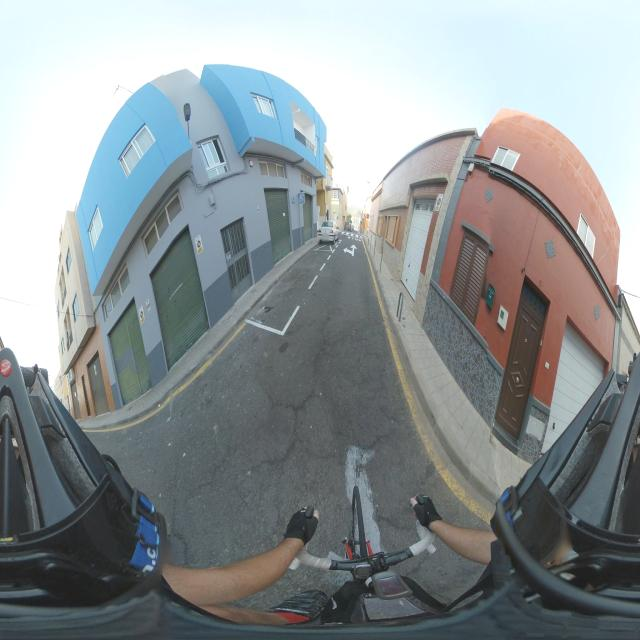car: (316, 218, 336, 248)
